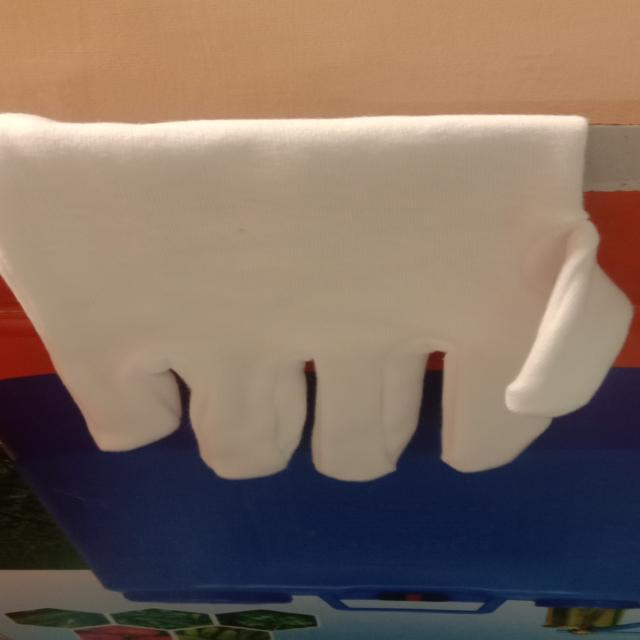glove_hand: (0, 109, 636, 484)
